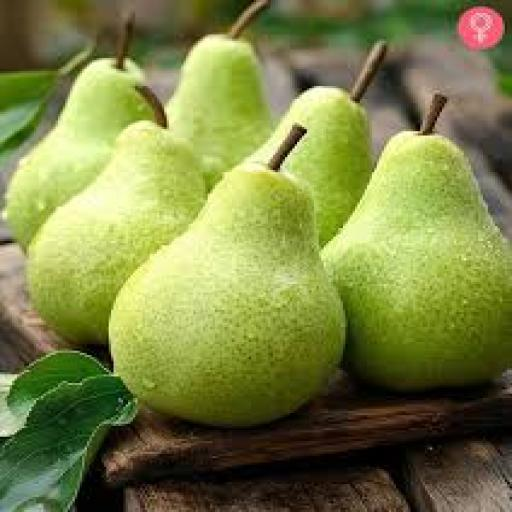pear: (2, 56, 512, 430)
